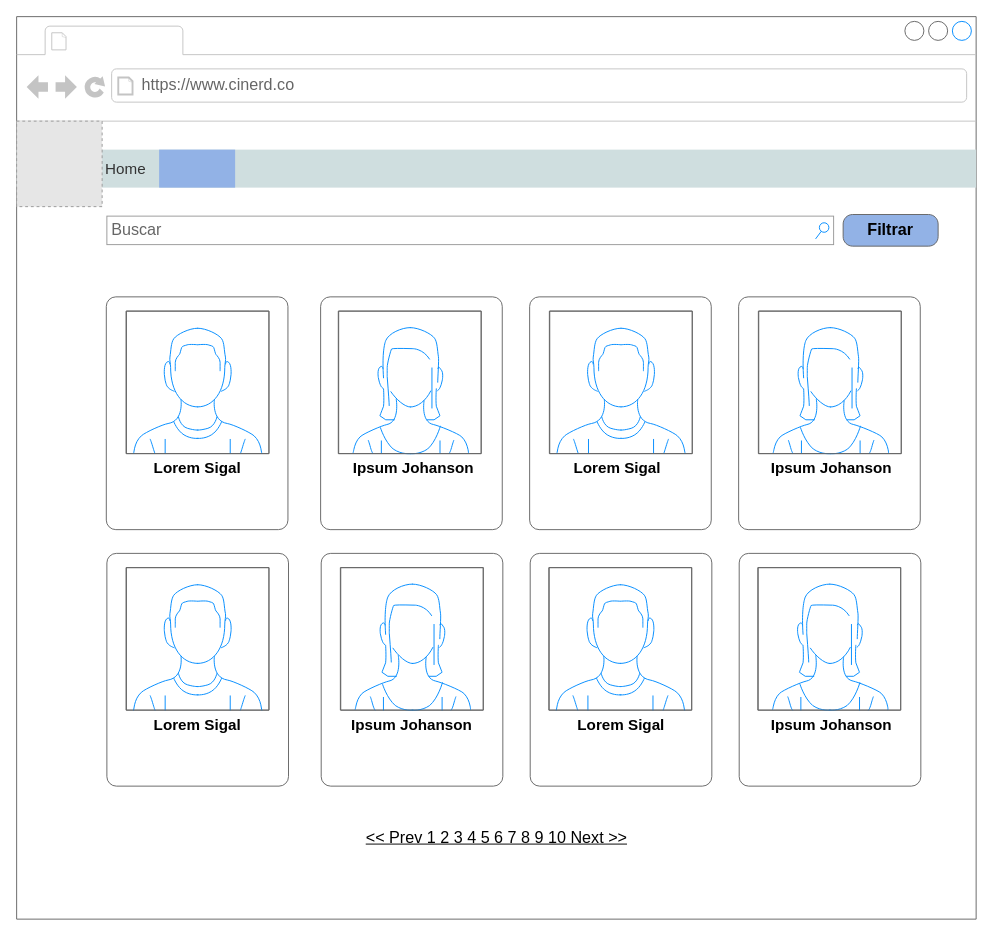
The diagram is 993 pixels wide and 936 high, and some of its shapes have lost their labels. Grey dashed boxes stand in for pictures. The shapes that lost their labels are listed below. From the top down, each one's box as (x1, y1, x2, y2) in pixels, then its label:
(73, 27, 178, 53): cinerd
(159, 149, 235, 187): Artistas
